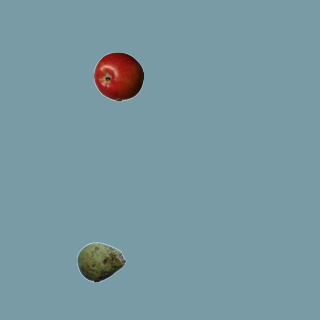Apple Braeburn: (93, 51, 143, 101)
Pear Stone: (76, 237, 126, 287)
